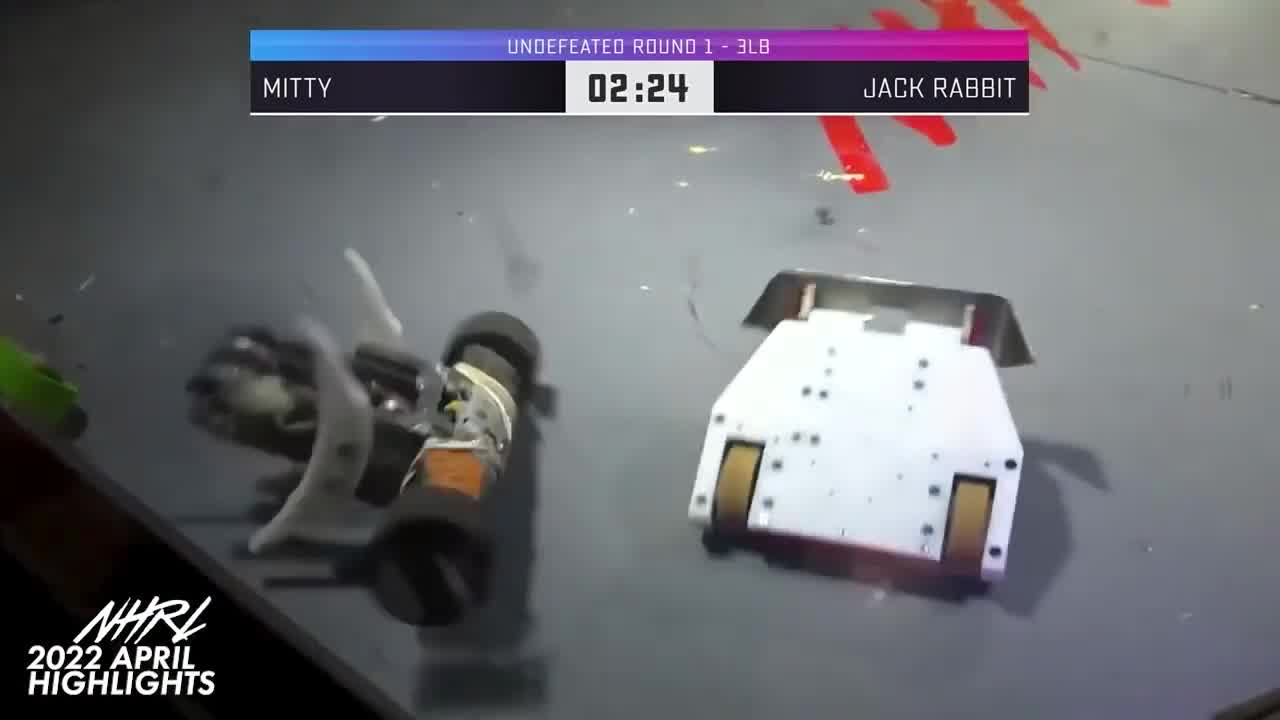combatbot: (182, 310, 546, 624), (687, 270, 1028, 584)
minibot: (0, 327, 95, 455)
